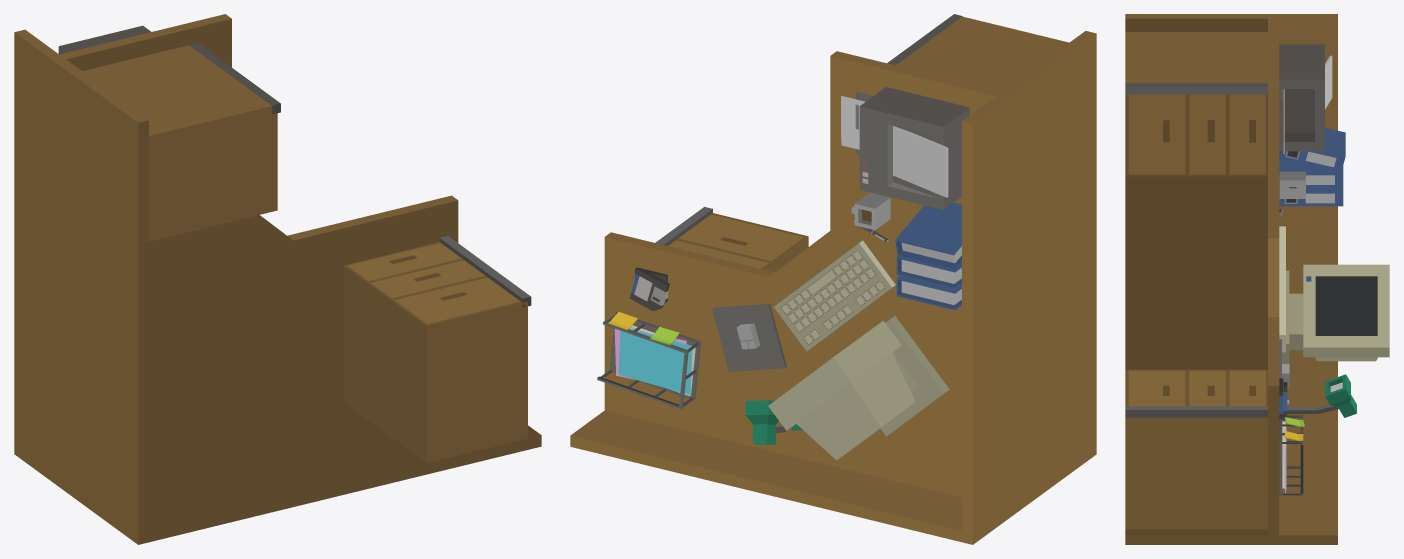
Rendered from DeskPreset6.glb.
3 renders of one model, left to right at view 1: azimuth 30°, elevation 25°; view 2: azimuth 150°, elevation 25°; view 3: azimuth 270°, elevation 25°, orthographic. The views are drawn at different scales.
Parts seen in each view (by area): view 1: SO_DeskPreset_06; view 2: SO_DeskPreset_06; view 3: SO_DeskPreset_06.
Part boxes in pixels (x1,y1,x2,y2): SO_DeskPreset_06: (14,14,541,544); SO_DeskPreset_06: (570,14,1096,544); SO_DeskPreset_06: (1125,14,1389,544).
Bounding box in the file's own units: 4.08 × 4.08 × 2.7.
1 material, 1 textured.
